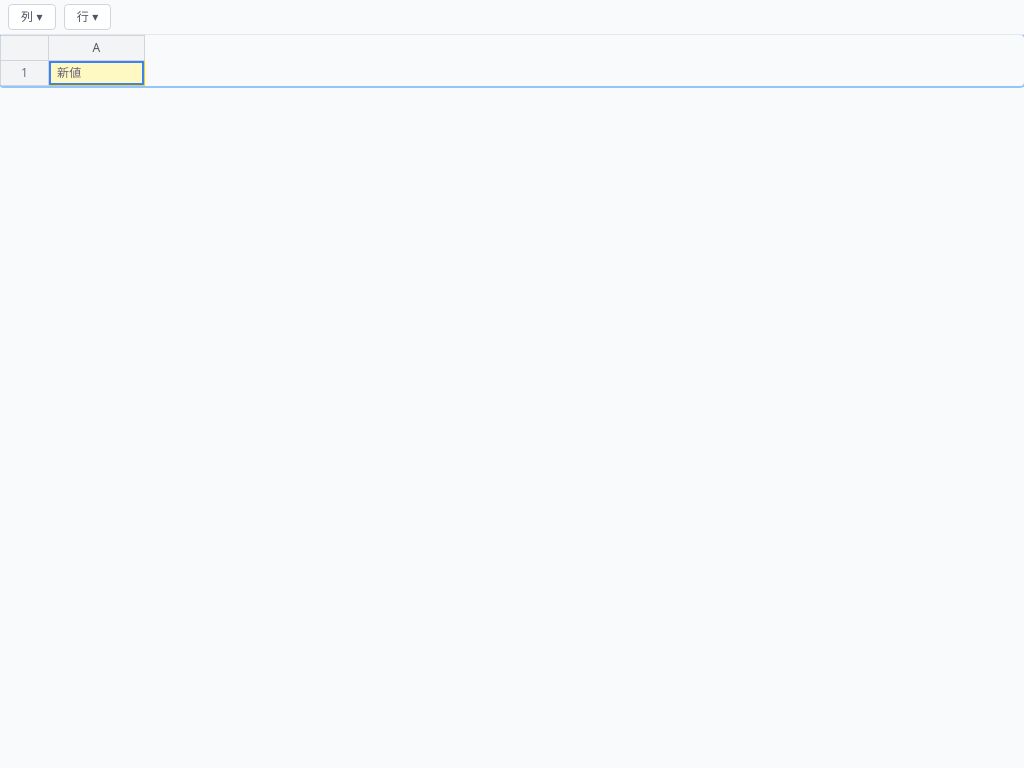
B-032: 詳細モーダルのサイズ固定とセル表示の統一 › モーダルのコンテンツエリアに固定高さが設定されている
This screenshot has width=1024, height=768.
Click the cell "新値" at (96, 73), box [48,60,144,86]
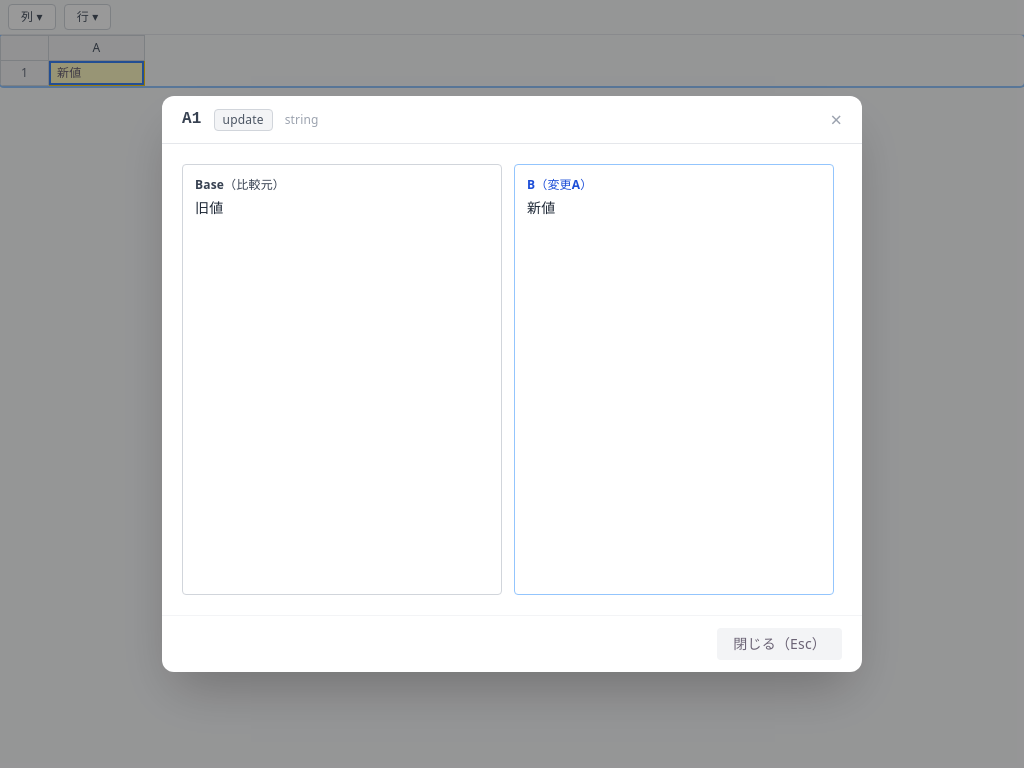
Check: the element with test id "cell-detail-modal" is shown, box [162,96,862,672]
